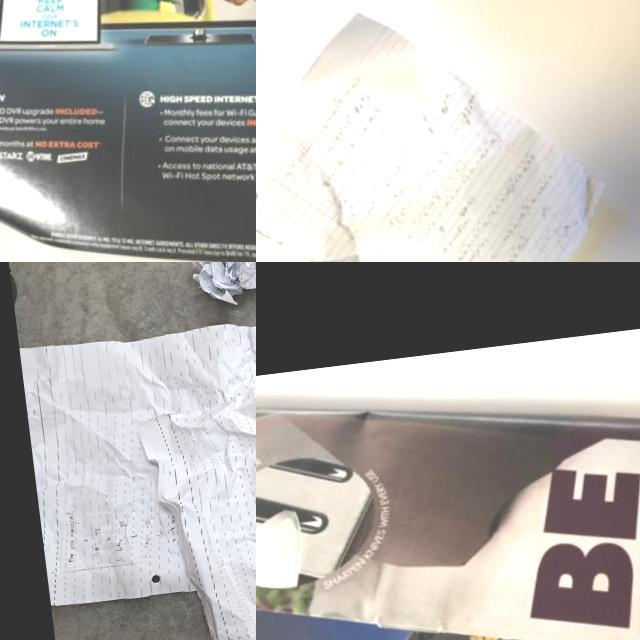papel: (256, 336, 640, 640), (256, 0, 623, 262), (15, 264, 256, 640), (0, 0, 256, 262), (182, 262, 256, 303)
